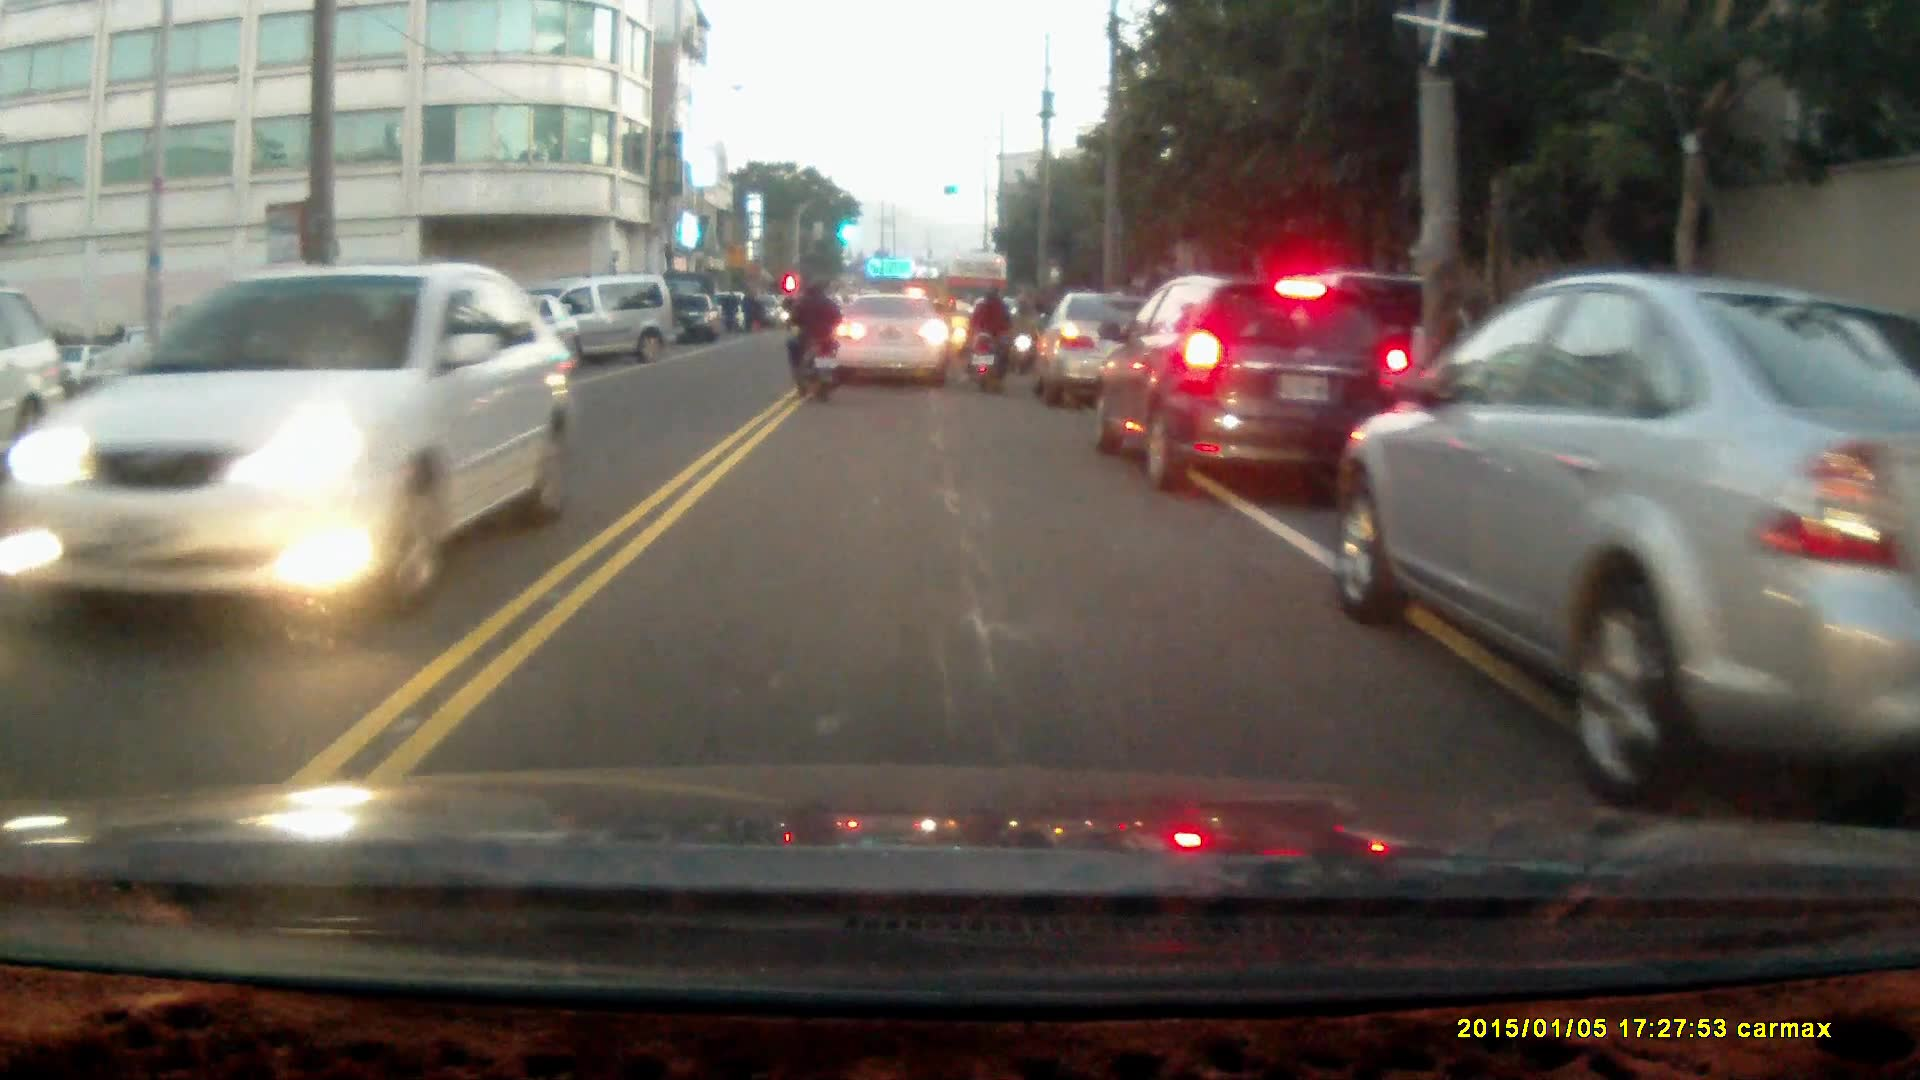rider: (782, 277, 842, 402), (962, 279, 1018, 392)
vehicle: (1348, 266, 1920, 796), (44, 259, 550, 621), (1086, 267, 1411, 490), (1034, 292, 1155, 406), (1, 284, 69, 476), (833, 289, 949, 391), (667, 293, 722, 344)
